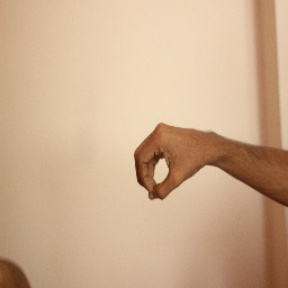O: (132, 119, 216, 202)
